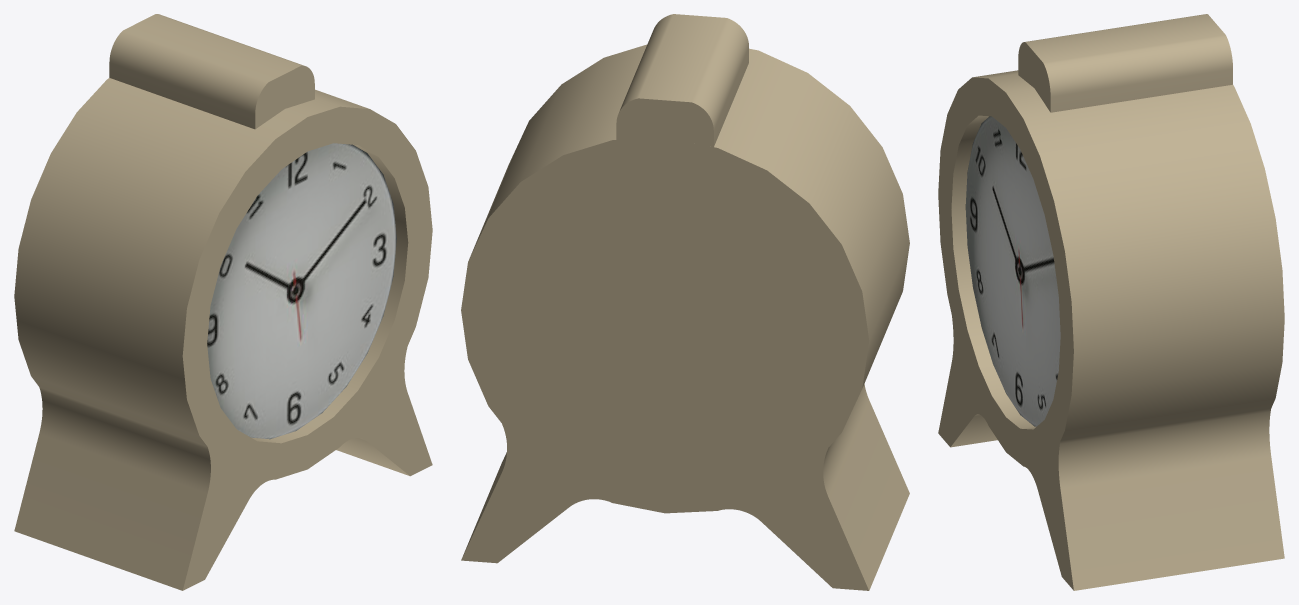
Rendered from alarm+clock.obj.
3 renders of one model, left to right at view 1: azimuth 30°, elevation 25°; view 2: azimuth 150°, elevation 25°; view 3: azimuth 270°, elevation 25°, orthographic. The views are drawn at different scales.
Parts seen in each view (by area): view 1: Mesh3 Group4 Group1 Component_1_1 Model, Mesh1 Group2 Group1 Component_1_1 Model, Mesh2 Group3 Group1 Component_1_1 Model; view 2: Mesh3 Group4 Group1 Component_1_1 Model, Mesh2 Group3 Group1 Component_1_1 Model; view 3: Mesh3 Group4 Group1 Component_1_1 Model, Mesh1 Group2 Group1 Component_1_1 Model, Mesh2 Group3 Group1 Component_1_1 Model.
Boxes of the visible parts, bbox=[...] form: Mesh3 Group4 Group1 Component_1_1 Model: bbox=[14, 78, 432, 590]; Mesh1 Group2 Group1 Component_1_1 Model: bbox=[207, 143, 396, 439]; Mesh2 Group3 Group1 Component_1_1 Model: bbox=[109, 14, 314, 129]; Mesh3 Group4 Group1 Component_1_1 Model: bbox=[461, 44, 909, 590]; Mesh2 Group3 Group1 Component_1_1 Model: bbox=[616, 14, 748, 146]; Mesh3 Group4 Group1 Component_1_1 Model: bbox=[938, 70, 1284, 590]; Mesh1 Group2 Group1 Component_1_1 Model: bbox=[965, 116, 1060, 426]; Mesh2 Group3 Group1 Component_1_1 Model: bbox=[1018, 14, 1232, 112].
Size of the model in its own units: 4.1 by 4.58 by 3.16.
2 materials, 2 textured.
